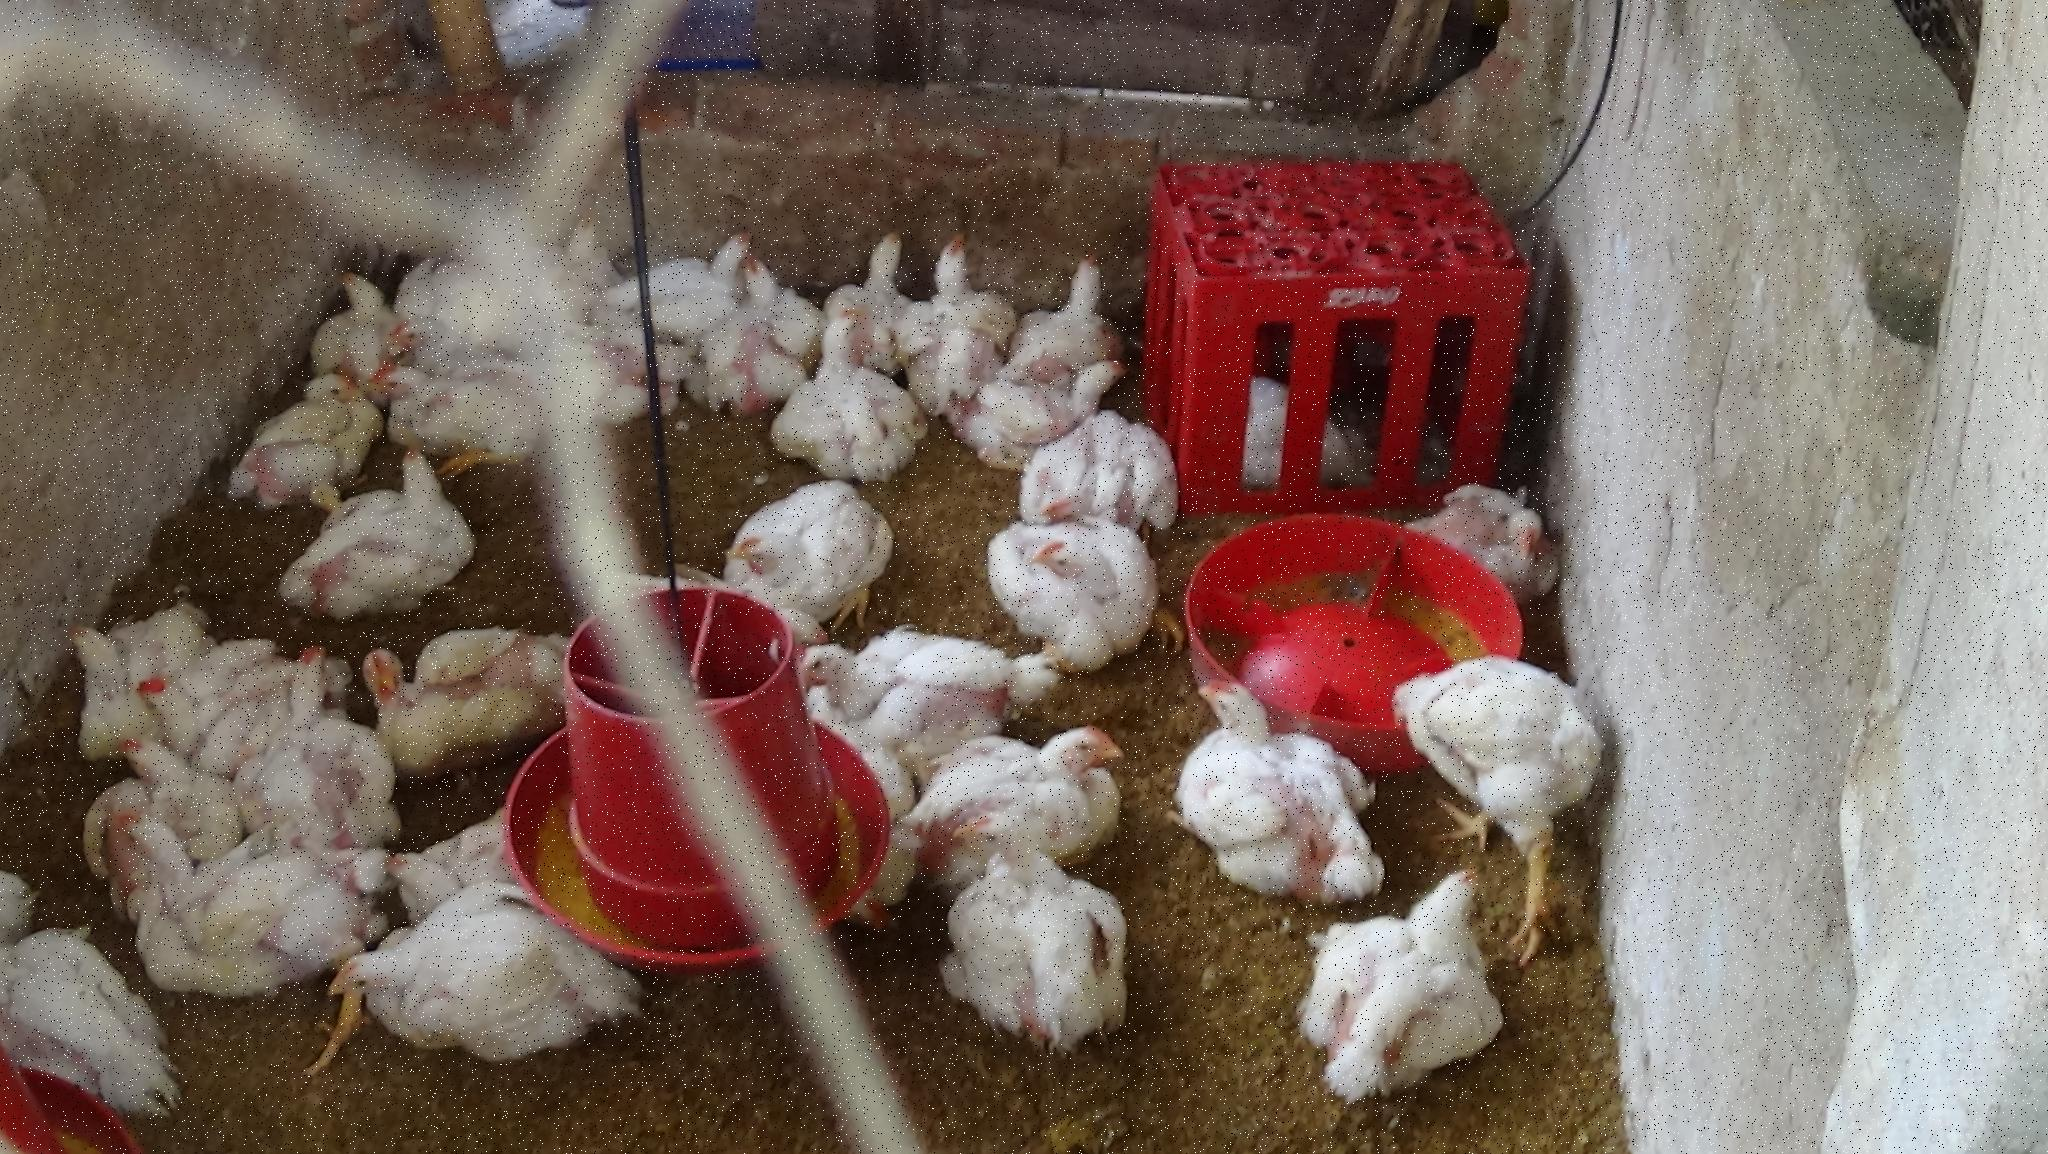Pollos: (1391, 650, 1632, 901), (1286, 878, 1521, 1113), (1152, 663, 1393, 889), (118, 815, 373, 988), (333, 896, 596, 1058), (940, 818, 1115, 1046), (1, 913, 196, 1110), (286, 445, 471, 628), (359, 630, 578, 781), (703, 471, 916, 623), (997, 516, 1180, 676), (789, 623, 1059, 721), (1391, 457, 1571, 602), (1210, 357, 1378, 505), (921, 714, 1118, 828), (783, 367, 933, 488), (955, 363, 1141, 455), (909, 229, 1009, 397), (250, 364, 391, 480), (1027, 417, 1184, 519), (374, 367, 547, 459), (706, 272, 819, 405), (819, 218, 904, 374), (1014, 248, 1117, 366), (625, 225, 760, 312), (77, 607, 203, 699), (264, 646, 333, 808), (118, 742, 238, 823), (364, 833, 470, 906), (553, 207, 627, 290), (136, 671, 219, 746), (838, 873, 904, 958), (381, 317, 471, 366), (339, 259, 383, 329)
